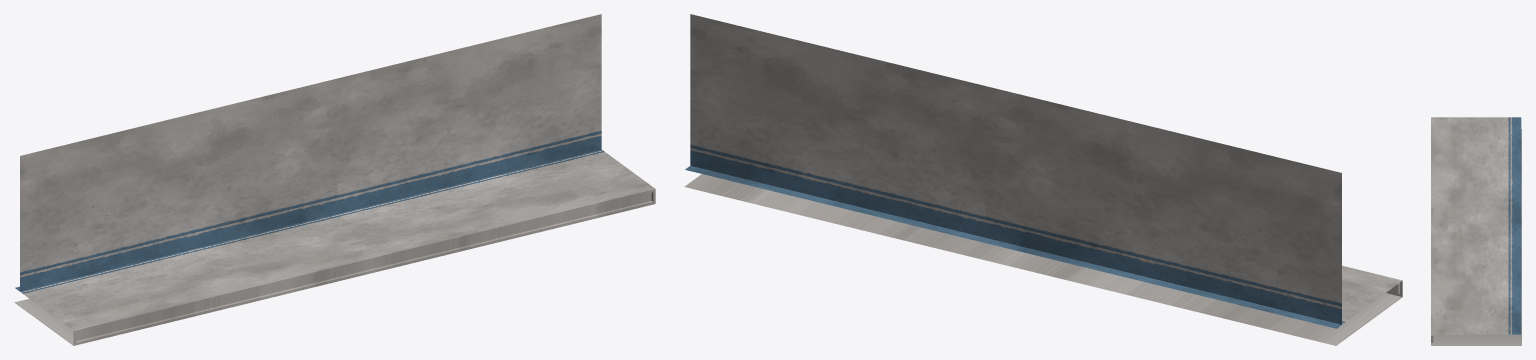
File: Mur+Sol 2.fbx
3 views of the same model, side by side, from view 1: azimuth 30°, elevation 25°; view 2: azimuth 150°, elevation 25°; view 3: azimuth 270°, elevation 25° (orthographic). The views are drawn at different scales.
Parts seen in each view (by area): view 1: Plane.008; view 2: Plane.008; view 3: Plane.008.
Boxes of the visible parts, box(x1,y1,x2,y2) form: Plane.008: box(14, 14, 655, 345); Plane.008: box(684, 14, 1402, 345); Plane.008: box(1431, 117, 1521, 345).
Bounding box in the file's own units: 400 × 98.75 × 70.81.
